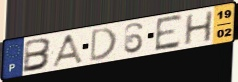6: (123, 21, 146, 55)
A: (49, 32, 85, 69)
B: (21, 37, 54, 74)
D: (88, 26, 118, 64)
E: (153, 13, 184, 54)
H: (182, 9, 214, 46)
